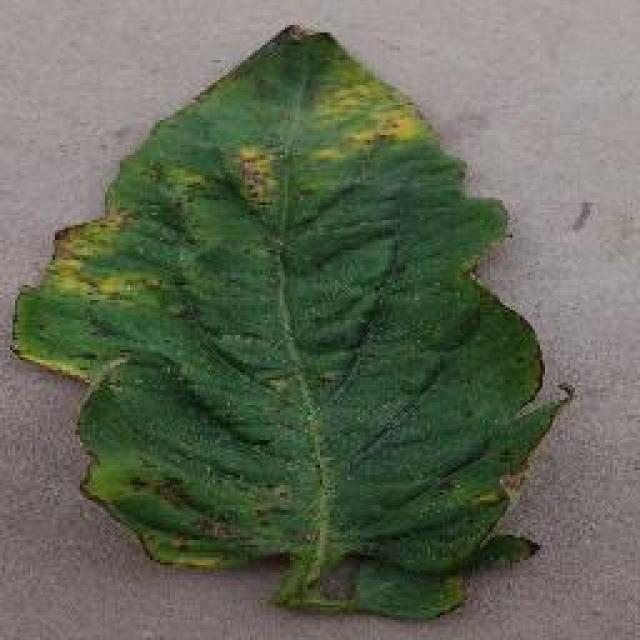Tomato___Bacterial_spot: (7, 20, 584, 626)
